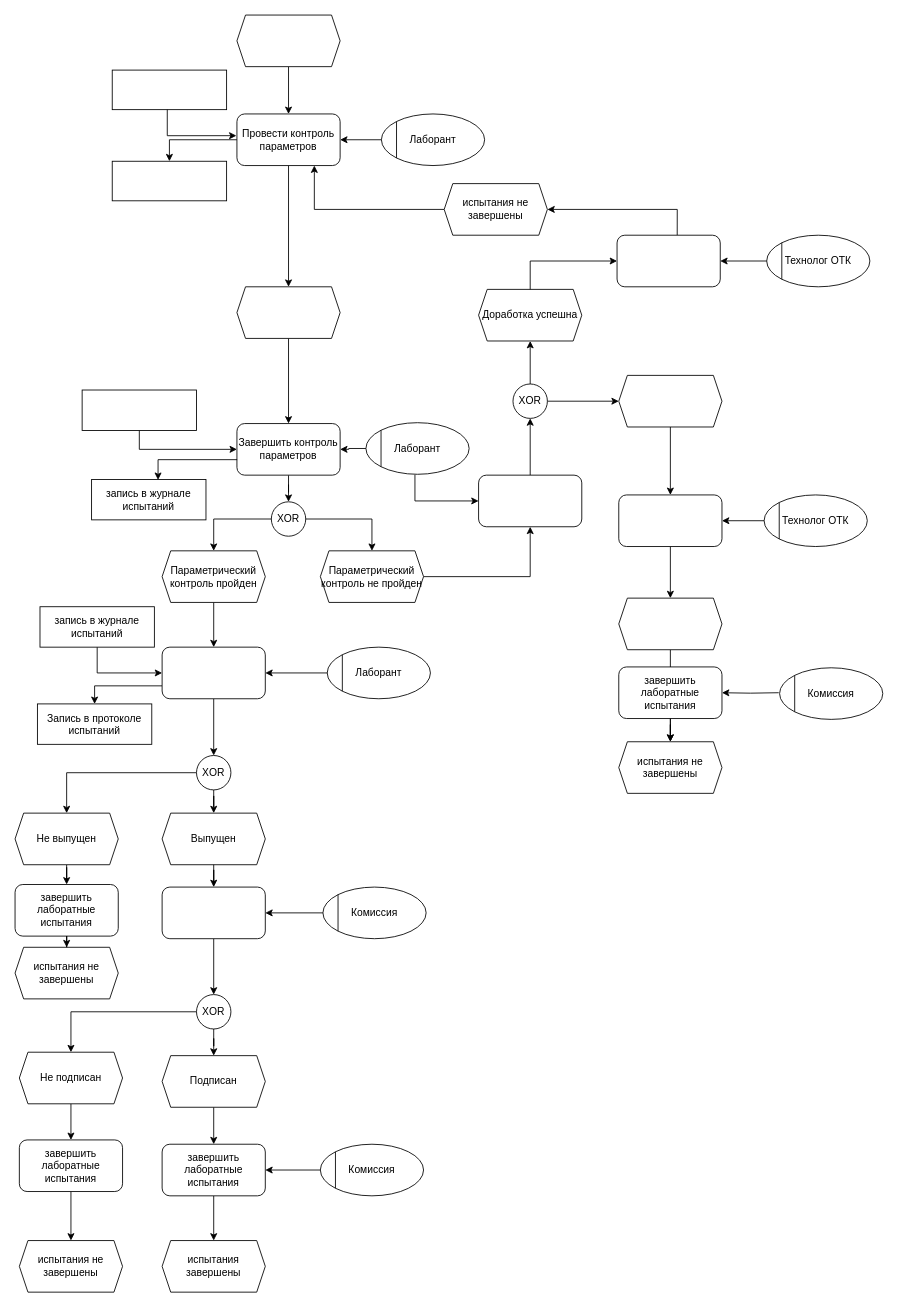
This 898x1307 diagram has some shape labels left out. The centre of each missing label's shape, as x and y in pixels:
"бланк для образца" goes at point (169, 180).
"бланк образца с параметрами" goes at point (139, 409).
"Выпустить протокол испытаний" goes at point (213, 672).
"Доработка неуспешна" goes at point (670, 401).
"значения параметров эталона" goes at point (169, 89).
"Необходимо изготовить сборку" goes at point (288, 40).
"отправить на повторные испытания" goes at point (668, 260).
"отправить сборку на доработку" goes at point (530, 500).
"Подписать" goes at point (213, 912).
"пройден Параметрический контроль" goes at point (288, 312).
"сборка забракована" goes at point (670, 623).
"Списать в брак" goes at point (670, 520).
